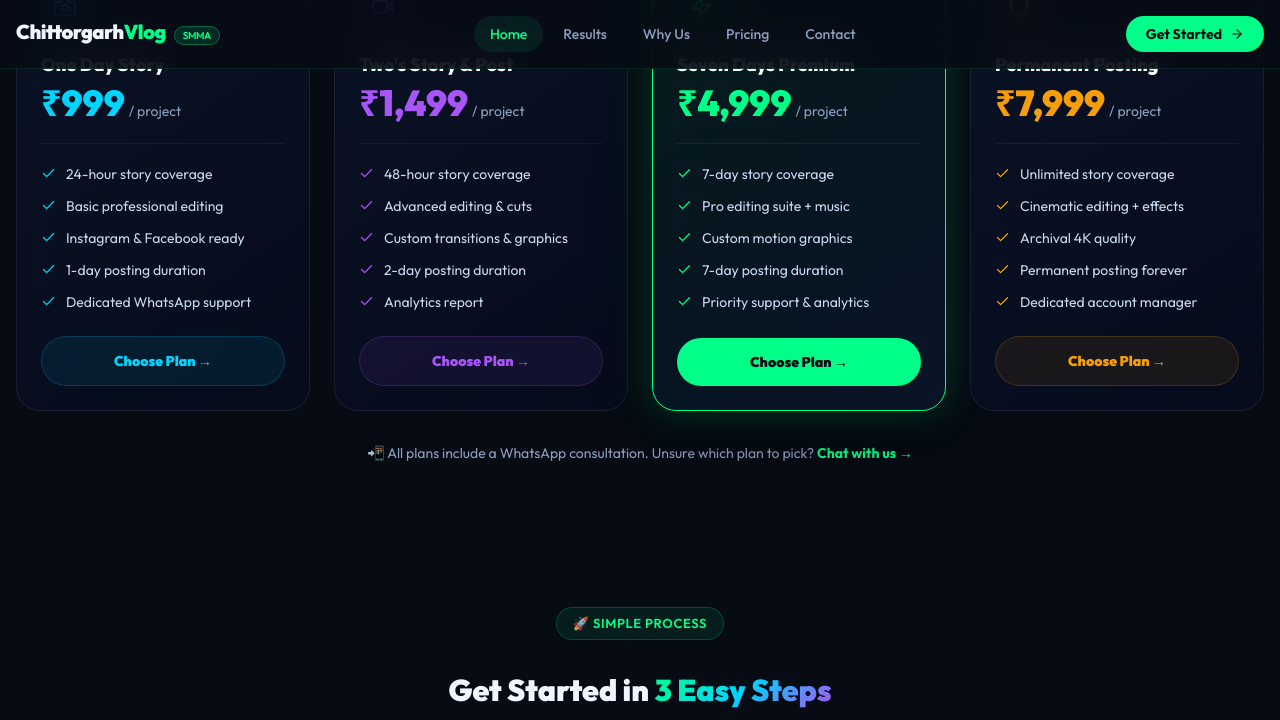
App Component › opens booking modal on plan select
This screenshot has width=1280, height=720.
(page scrolled)
Click the button "Choose Plan →" below "Dedicated WhatsApp support". click: (163, 361)
box: x1=41 y1=336 x2=285 y2=386
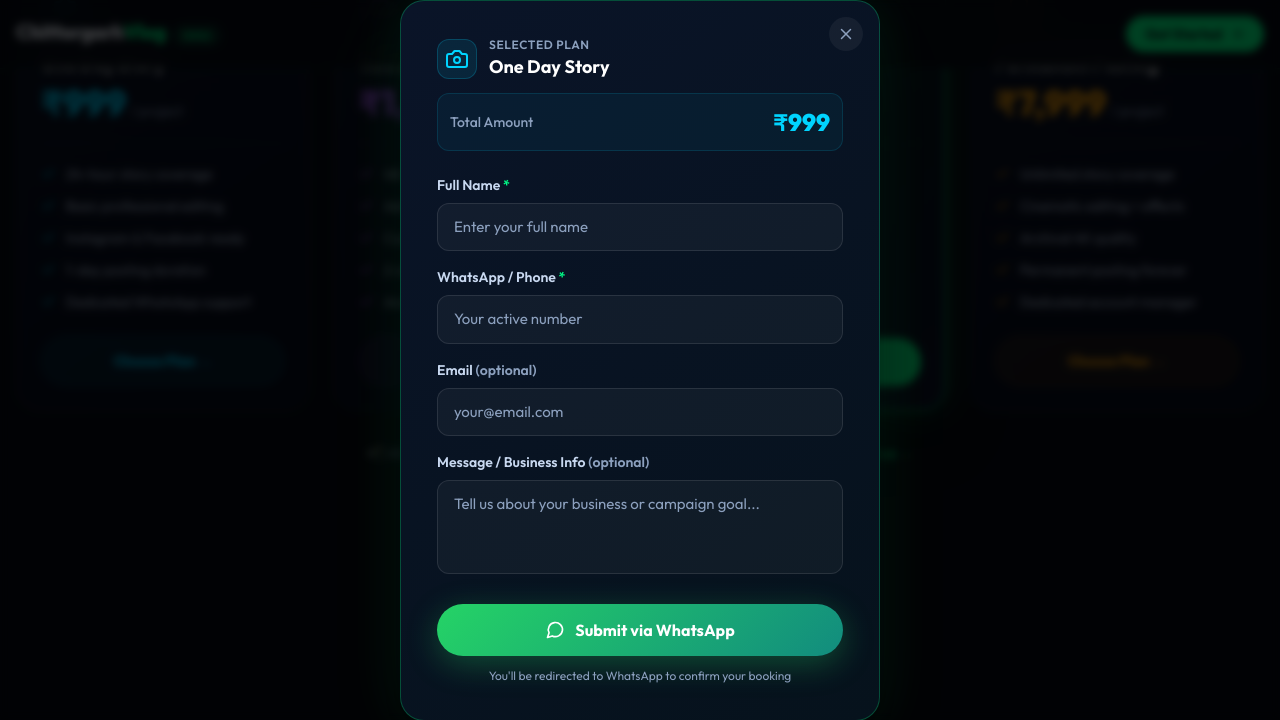
Now the field with placeholder "Enter your full name" is shown, box x1=437 y1=202 x2=843 y2=251
Now the field with placeholder "Your active number" is shown, box x1=437 y1=295 x2=843 y2=344
Now the field with placeholder "your@email.com" is shown, box x1=437 y1=388 x2=843 y2=436
